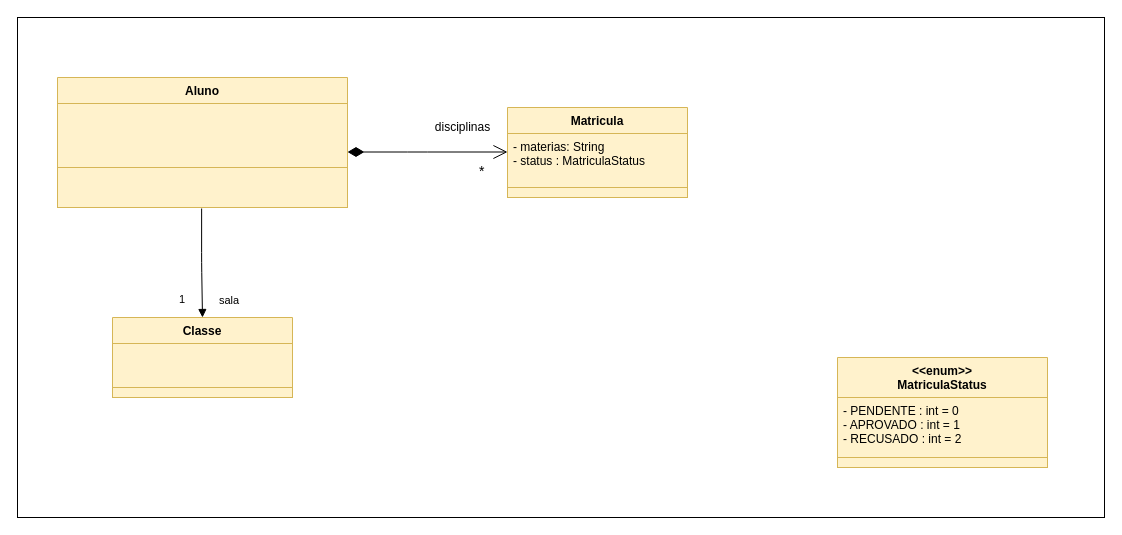
Some shapes in this 1122 by 535 pixel diagram are drawn without their labels. The centre of each missing label's shape, as x and y in pixels:
"- addDisciplina(materias : Matricula) : void" goes at pixel 202 187.
"- momento : Date - String : nome - String : curso" goes at pixel 202 135.
"- numSala : Integer - periodo : String" goes at pixel 202 365.
